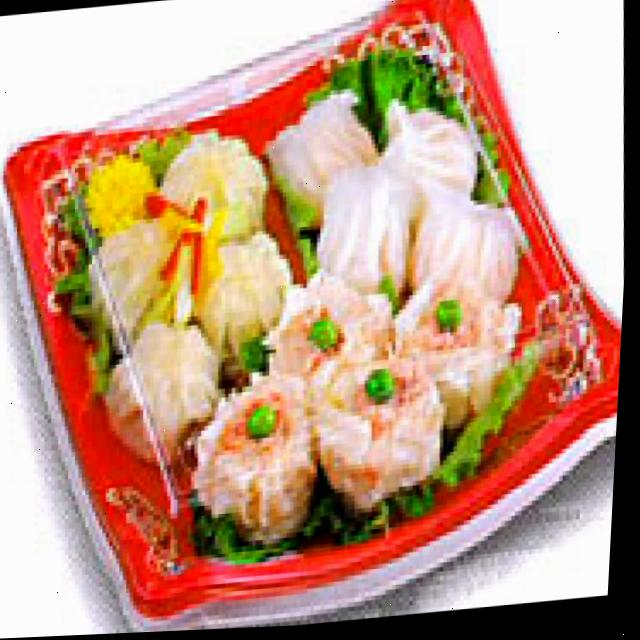带馅早点: (207, 75, 506, 494)
